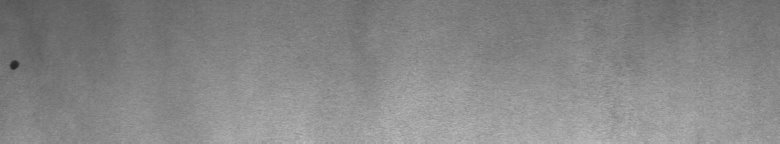fi: (4, 52, 25, 77)
